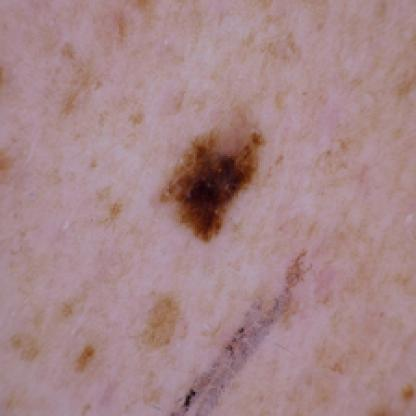Skin_Cancer-Malignant: (160, 131, 270, 243)
